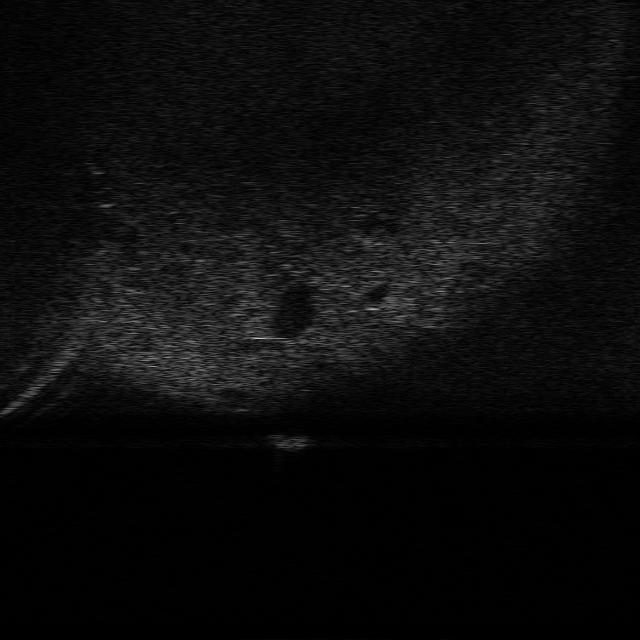cube: (268, 431, 318, 450)
